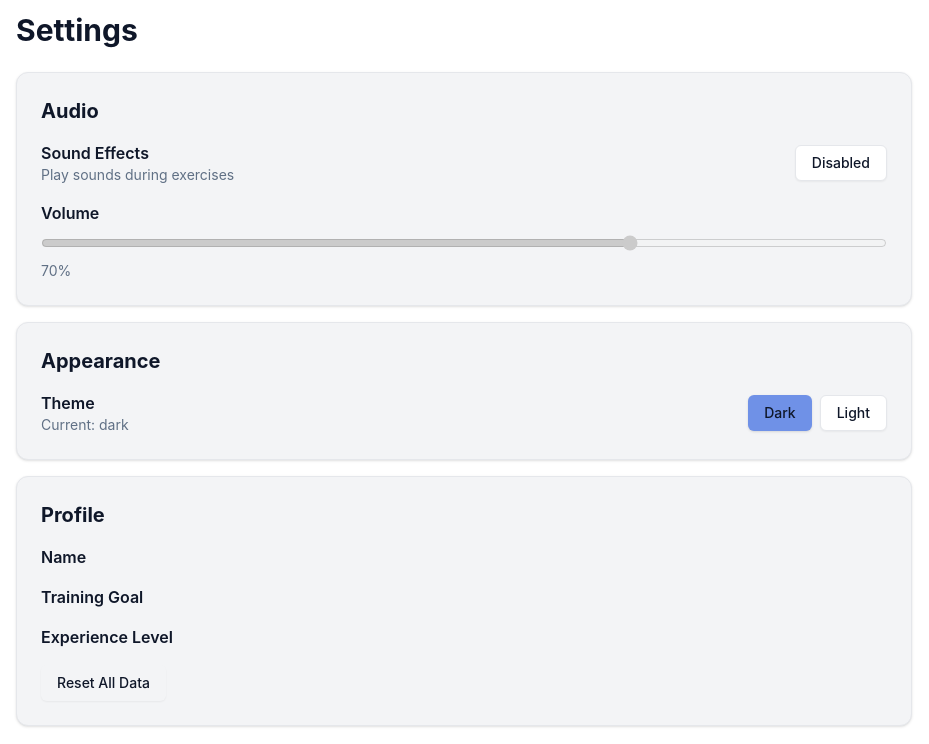
Scenario: SettingsPage › should change theme when theme button is clicked
This screenshot has width=929, height=744.
Click the button "Light" at (853, 413), box left=820, top=395, right=887, bottom=431
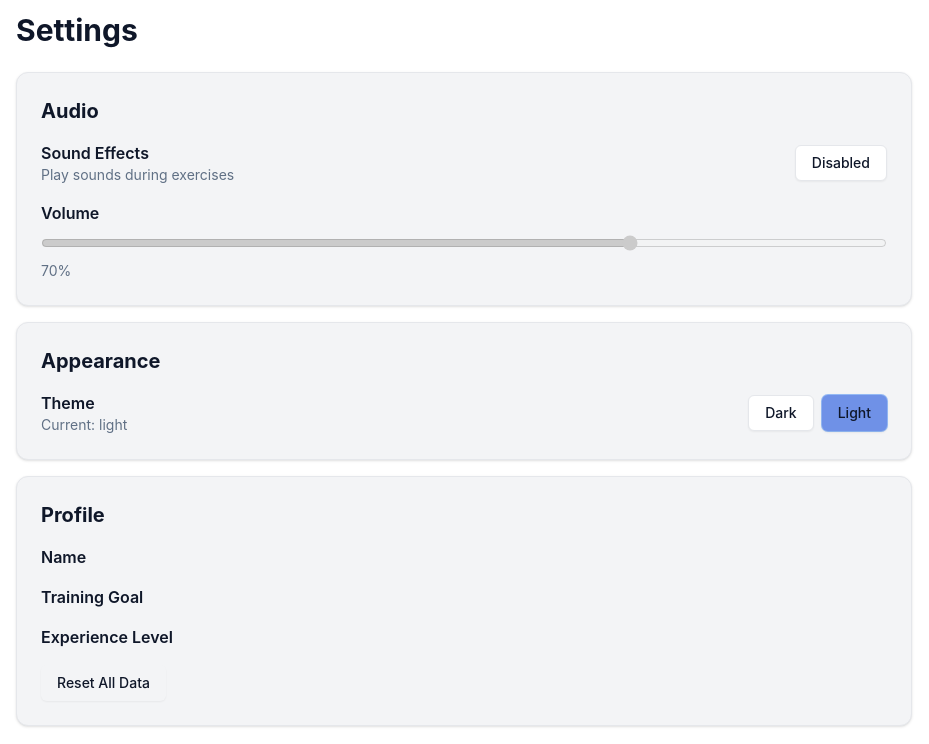
Now the text "Current: light" is shown, box left=41, top=415, right=127, bottom=435
